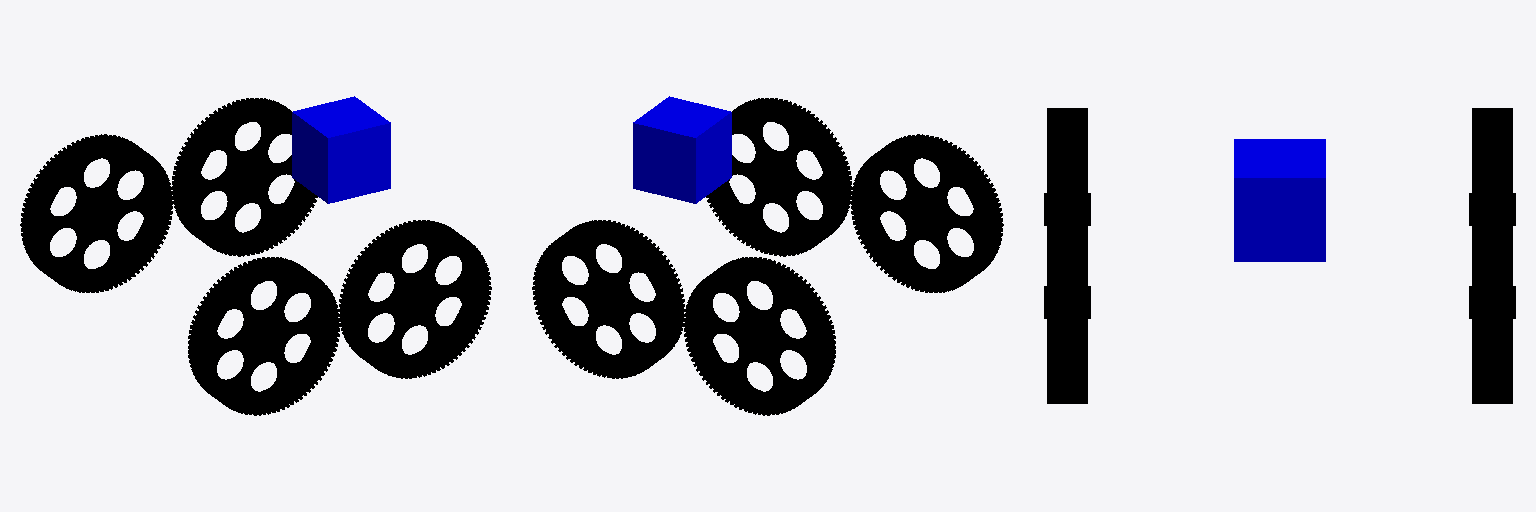
robot.urdf — Robot_Arm:
<?xml version="1.0" ?>
<!-- =================================================================================== -->
<!-- |    This document was autogenerated by xacro from 01-diff_drive.urdf.xacro       | -->
<!-- |    EDITING THIS FILE BY HAND IS NOT RECOMMENDED                                 | -->
<!-- =================================================================================== -->
<robot name="Robot_Arm" xmlns:xacro="http://www.ros.org/wiki/xacro">
  <!-- /////////////////////////////////////////////////////////////////-->
  <!-- Include materials-->
  <material name="Black">
    <color rgba="0.0 0.0 0.0 1.0"/>
  </material>
  <material name="Red">
    <color rgba="0.8 0.0 0.0 1.0"/>
  </material>
  <material name="White">
    <color rgba="1.0 1.0 1.0 1.0"/>
  </material>
  <material name="Blue">
    <color rgba="0.0 0.0 1.0 1.0"/>
  </material>
  <material name="Green">
    <color rgba="0.0 1.0 0.0 1.0"/>
  </material>
  <!-- /////////////////////////////////////////////////////-->
  <!-- constants -->
  <!-- chassis property -->
  <!-- wheel property -->
  <!-- /////////////////////////////////////////////////////-->
  <!-- ///////////////////////////////////////////////////-->
  <!-- ////////////////////////////////////////////////////-->
  <!--transmission block-->
  <!-- //////////////////////////////////////////////////// -->
  <!-- ////////////////////////////////////////////////////////////-->
  <!-- chassis-->
  <link name="chassis">
    <visual>
      <origin rpy="-1.57 0 1.57" xyz="0 0 0"/>
      <geometry>
        <mesh filename="package://robot_arm/meshes/base assembly.dae"/>
      </geometry>
    </visual>
    <collision>
      <origin rpy="-1.57 0 0" xyz="0 0 0"/>
      <geometry>
        <mesh filename="package://robot_arm/meshes/base assembly.dae"/>
      </geometry>
    </collision>
    <inertial>
      <mass value="5.0"/>
      <inertia ixx="1.0" ixy="0.0" ixz="0.0" iyy="1.0" iyz="0.0" izz="1.0"/>
    </inertial>
  </link>
  <gazebo reference="chassis">
    <turnGravityOff>false</turnGravityOff>
  </gazebo>
  <!-- ///////////////////      Wheels      ///////////////////////   -->
  <link name="right_front_wheel">
    <visual>
      <origin rpy="1.57 0 0" xyz="0 0 0"/>
      <geometry>
        <cylinder length="0.022" radius="0.011"/>
      </geometry>
      <material name="Black"/>
    </visual>
    <collision>
      <origin rpy="1.57 0 0" xyz="0 0 0"/>
      <geometry>
        <cylinder length="0.022" radius="0.011"/>
      </geometry>
    </collision>
    <inertial>
      <mass value="0.2"/>
      <inertia ixx="2.48722222222e-05" ixy="0.0" ixz="0.0" iyy="2.48722222222e-05" iyz="0.0" izz="3.3611111111e-05"/>
    </inertial>
  </link>
  <link name="right_front_wheel1">
    <visual>
      <origin rpy="0  1.57 0" xyz="0 0 0"/>
      <geometry>
        <mesh filename="package://robot_arm/meshes/tyre11.dae"/>
      </geometry>
      <material name="Black"/>
    </visual>
    <collision>
      <origin rpy="0 1.57 0" xyz="0 0 0"/>
      <geometry>
        <mesh filename="package://robot_arm/meshes/tyre11.dae"/>
      </geometry>
    </collision>
    <inertial>
      <mass value="0.2"/>
      <inertia ixx="0.000159316666667" ixy="0.0" ixz="0.0" iyy="0.000159316666667" iyz="0.0" izz="0.0003025"/>
    </inertial>
  </link>
  <gazebo reference="right_front_wheel1">
    <material>Gazebo/Black</material>
    <turnGravityOff>false</turnGravityOff>
  </gazebo>
  <joint name="right_front_wheel_joint1" type="fixed">
    <parent link="right_front_wheel"/>
    <child link="right_front_wheel1"/>
    <origin rpy="0 0 0" xyz="0 0 0"/>
  </joint>
  <gazebo reference="right_front_wheel">
    <mu1 value="200.0"/>
    <mu2 value="100.0"/>
    <kp value="10000000.0"/>
    <kd value="1.0"/>
    <material>Gazebo/Black</material>
  </gazebo>
  <joint name="right_front_wheel_joint" type="continuous">
    <parent link="chassis"/>
    <child link="right_front_wheel"/>
    <origin rpy="0 0 0" xyz="0.062 -0.115  0.015"/>
    <axis xyz="0 1 0"/>
    <limit effort="100" velocity="100"/>
    <dynamics damping="0.0" friction="0.0"/>
  </joint>
  <transmission name="right_front_wheel_trans">
    <type>transmission_interface/SimpleTransmission</type>
    <actuator name="right_front_wheel_motor">
      <hardwareInterface>EffortJointInterface</hardwareInterface>
      <mechanicalReduction>1</mechanicalReduction>
    </actuator>
    <joint name="right_front_wheel_joint">
      <hardwareInterface>VelocityJointInterface</hardwareInterface>
    </joint>
  </transmission>
  <link name="right_back_wheel">
    <visual>
      <origin rpy="1.57 0 0" xyz="0 0 0"/>
      <geometry>
        <cylinder length="0.022" radius="0.011"/>
      </geometry>
      <material name="Black"/>
    </visual>
    <collision>
      <origin rpy="1.57 0 0" xyz="0 0 0"/>
      <geometry>
        <cylinder length="0.022" radius="0.011"/>
      </geometry>
    </collision>
    <inertial>
      <mass value="0.2"/>
      <inertia ixx="2.48722222222e-05" ixy="0.0" ixz="0.0" iyy="2.48722222222e-05" iyz="0.0" izz="3.3611111111e-05"/>
    </inertial>
  </link>
  <link name="right_back_wheel1">
    <visual>
      <origin rpy="0  1.57 0" xyz="0 0 0"/>
      <geometry>
        <mesh filename="package://robot_arm/meshes/tyre11.dae"/>
      </geometry>
      <material name="Black"/>
    </visual>
    <collision>
      <origin rpy="0 1.57 0" xyz="0 0 0"/>
      <geometry>
        <mesh filename="package://robot_arm/meshes/tyre11.dae"/>
      </geometry>
    </collision>
    <inertial>
      <mass value="0.2"/>
      <inertia ixx="0.000159316666667" ixy="0.0" ixz="0.0" iyy="0.000159316666667" iyz="0.0" izz="0.0003025"/>
    </inertial>
  </link>
  <gazebo reference="right_back_wheel1">
    <material>Gazebo/Black</material>
    <turnGravityOff>false</turnGravityOff>
  </gazebo>
  <joint name="right_back_wheel_joint1" type="fixed">
    <parent link="right_back_wheel"/>
    <child link="right_back_wheel1"/>
    <origin rpy="0 0 0" xyz="0 0 0"/>
  </joint>
  <gazebo reference="right_back_wheel">
    <mu1 value="200.0"/>
    <mu2 value="100.0"/>
    <kp value="10000000.0"/>
    <kd value="1.0"/>
    <material>Gazebo/Black</material>
  </gazebo>
  <joint name="right_back_wheel_joint" type="continuous">
    <parent link="chassis"/>
    <child link="right_back_wheel"/>
    <origin rpy="0 0 0" xyz="-0.058 -0.115  0.015"/>
    <axis xyz="0 1 0"/>
    <limit effort="100" velocity="100"/>
    <dynamics damping="0.0" friction="0.0"/>
  </joint>
  <transmission name="right_back_wheel_trans">
    <type>transmission_interface/SimpleTransmission</type>
    <actuator name="right_back_wheel_motor">
      <hardwareInterface>EffortJointInterface</hardwareInterface>
      <mechanicalReduction>1</mechanicalReduction>
    </actuator>
    <joint name="right_back_wheel_joint">
      <hardwareInterface>VelocityJointInterface</hardwareInterface>
    </joint>
  </transmission>
  <link name="left_front_wheel">
    <visual>
      <origin rpy="1.57 0 0" xyz="0 0 0"/>
      <geometry>
        <cylinder length="0.022" radius="0.011"/>
      </geometry>
      <material name="Black"/>
    </visual>
    <collision>
      <origin rpy="1.57 0 0" xyz="0 0 0"/>
      <geometry>
        <cylinder length="0.022" radius="0.011"/>
      </geometry>
    </collision>
    <inertial>
      <mass value="0.2"/>
      <inertia ixx="2.48722222222e-05" ixy="0.0" ixz="0.0" iyy="2.48722222222e-05" iyz="0.0" izz="3.3611111111e-05"/>
    </inertial>
  </link>
  <link name="left_front_wheel1">
    <visual>
      <origin rpy="0  1.57 0" xyz="0 0 0"/>
      <geometry>
        <mesh filename="package://robot_arm/meshes/tyre11.dae"/>
      </geometry>
      <material name="Black"/>
    </visual>
    <collision>
      <origin rpy="0 1.57 0" xyz="0 0 0"/>
      <geometry>
        <mesh filename="package://robot_arm/meshes/tyre11.dae"/>
      </geometry>
    </collision>
    <inertial>
      <mass value="0.2"/>
      <inertia ixx="0.000159316666667" ixy="0.0" ixz="0.0" iyy="0.000159316666667" iyz="0.0" izz="0.0003025"/>
    </inertial>
  </link>
  <gazebo reference="left_front_wheel1">
    <material>Gazebo/Black</material>
    <turnGravityOff>false</turnGravityOff>
  </gazebo>
  <joint name="left_front_wheel_joint1" type="fixed">
    <parent link="left_front_wheel"/>
    <child link="left_front_wheel1"/>
    <origin rpy="0 0 0" xyz="0 0 0"/>
  </joint>
  <gazebo reference="left_front_wheel">
    <mu1 value="200.0"/>
    <mu2 value="100.0"/>
    <kp value="10000000.0"/>
    <kd value="1.0"/>
    <material>Gazebo/Black</material>
  </gazebo>
  <joint name="left_front_wheel_joint" type="continuous">
    <parent link="chassis"/>
    <child link="left_front_wheel"/>
    <origin rpy="0 0 0" xyz="0.062 0.115  0.015"/>
    <axis xyz="0 1 0"/>
    <limit effort="100" velocity="100"/>
    <dynamics damping="0.0" friction="0.0"/>
  </joint>
  <transmission name="left_front_wheel_trans">
    <type>transmission_interface/SimpleTransmission</type>
    <actuator name="left_front_wheel_motor">
      <hardwareInterface>EffortJointInterface</hardwareInterface>
      <mechanicalReduction>1</mechanicalReduction>
    </actuator>
    <joint name="left_front_wheel_joint">
      <hardwareInterface>VelocityJointInterface</hardwareInterface>
    </joint>
  </transmission>
  <link name="left_back_wheel">
    <visual>
      <origin rpy="1.57 0 0" xyz="0 0 0"/>
      <geometry>
        <cylinder length="0.022" radius="0.011"/>
      </geometry>
      <material name="Black"/>
    </visual>
    <collision>
      <origin rpy="1.57 0 0" xyz="0 0 0"/>
      <geometry>
        <cylinder length="0.022" radius="0.011"/>
      </geometry>
    </collision>
    <inertial>
      <mass value="0.2"/>
      <inertia ixx="2.48722222222e-05" ixy="0.0" ixz="0.0" iyy="2.48722222222e-05" iyz="0.0" izz="3.3611111111e-05"/>
    </inertial>
  </link>
  <link name="left_back_wheel1">
    <visual>
      <origin rpy="0  1.57 0" xyz="0 0 0"/>
      <geometry>
        <mesh filename="package://robot_arm/meshes/tyre11.dae"/>
      </geometry>
      <material name="Black"/>
    </visual>
    <collision>
      <origin rpy="0 1.57 0" xyz="0 0 0"/>
      <geometry>
        <mesh filename="package://robot_arm/meshes/tyre11.dae"/>
      </geometry>
    </collision>
    <inertial>
      <mass value="0.2"/>
      <inertia ixx="0.000159316666667" ixy="0.0" ixz="0.0" iyy="0.000159316666667" iyz="0.0" izz="0.0003025"/>
    </inertial>
  </link>
  <gazebo reference="left_back_wheel1">
    <material>Gazebo/Black</material>
    <turnGravityOff>false</turnGravityOff>
  </gazebo>
  <joint name="left_back_wheel_joint1" type="fixed">
    <parent link="left_back_wheel"/>
    <child link="left_back_wheel1"/>
    <origin rpy="0 0 0" xyz="0 0 0"/>
  </joint>
  <gazebo reference="left_back_wheel">
    <mu1 value="200.0"/>
    <mu2 value="100.0"/>
    <kp value="10000000.0"/>
    <kd value="1.0"/>
    <material>Gazebo/Black</material>
  </gazebo>
  <joint name="left_back_wheel_joint" type="continuous">
    <parent link="chassis"/>
    <child link="left_back_wheel"/>
    <origin rpy="0 0 0" xyz="-0.058 0.115  0.015"/>
    <axis xyz="0 1 0"/>
    <limit effort="100" velocity="100"/>
    <dynamics damping="0.0" friction="0.0"/>
  </joint>
  <transmission name="left_back_wheel_trans">
    <type>transmission_interface/SimpleTransmission</type>
    <actuator name="left_back_wheel_motor">
      <hardwareInterface>EffortJointInterface</hardwareInterface>
      <mechanicalReduction>1</mechanicalReduction>
    </actuator>
    <joint name="left_back_wheel_joint">
      <hardwareInterface>VelocityJointInterface</hardwareInterface>
    </joint>
  </transmission>
  <!--///////////////////////////////////////////////////////////////// -->
  <link name="hokuyo_sensor">
    <visual>
      <origin rpy="0 0 0" xyz="0 0 0"/>
      <geometry>
        <box size="0.05 0.05 0.05"/>
      </geometry>
      <material name="Blue"/>
    </visual>
  </link>
  <joint name="hokuyo_joint" type="fixed">
    <origin rpy="0 0 0" xyz="0.07 0 0.08"/>
    <parent link="chassis"/>
    <child link="hokuyo_sensor"/>
  </joint>
  <gazebo reference="hokuyo_sensor">
    <material>Gazebo/Blue</material>
    <turnGravityOff>false</turnGravityOff>
    <sensor name="chassis_hokuyo_sensor" type="ray">
      <pose>0.025 0 0 0 0 0</pose>
      <visualize>false</visualize>
      <update_rate>40</update_rate>
      <ray>
        <scan>
          <horizontal>
            <samples>720</samples>
            <resolution>1</resolution>
            <min_angle>-1.57</min_angle>
            <max_angle>1.57</max_angle>
          </horizontal>
        </scan>
        <range>
          <min>0.10</min>
          <max>10.0</max>
          <resolution>0.001</resolution>
        </range>
      </ray>
      <plugin filename="libgazebo_ros_laser.so" name="gazebo_ros_head_hokuyo_controller">
        <topicName>/scan</topicName>
        <frameName>hokuyo_sensor</frameName>
      </plugin>
    </sensor>
  </gazebo>
  <!-- //////////////////////////////////////////////////////////////// -->
  <!-- ros_control plugin-->
  <gazebo>
    <plugin filename="libgazebo_ros_control.so" name="gazebo_ros_control">
      <robotNamespace>/</robotNamespace>
    </plugin>
  </gazebo>
</robot>

--- Render facts (derived) ---
The picture shows the robot from 3 angles, left to right: view 1: azimuth 30°, elevation 25°; view 2: azimuth 150°, elevation 25°; view 3: azimuth 270°, elevation 25°; orthographic projection.
Robot: Robot_Arm — 10 links, 9 joints (4 continuous, 5 fixed); root link chassis; default pose: all joints at 0.
Links seen in each view (by area): view 1: left_back_wheel1, right_back_wheel1, right_front_wheel1, left_front_wheel1, hokuyo_sensor; view 2: right_back_wheel1, left_back_wheel1, left_front_wheel1, right_front_wheel1, hokuyo_sensor; view 3: hokuyo_sensor, right_front_wheel1, left_front_wheel1, right_back_wheel1, left_back_wheel1.
Boxes of the visible links, x1,y1,x2,y2 form: left_back_wheel1: (20, 134, 173, 292); right_back_wheel1: (188, 257, 340, 415); right_front_wheel1: (339, 220, 491, 378); left_front_wheel1: (172, 98, 317, 256); hokuyo_sensor: (292, 96, 390, 203); right_back_wheel1: (850, 134, 1003, 292); left_back_wheel1: (683, 257, 835, 415); left_front_wheel1: (532, 220, 684, 378); right_front_wheel1: (706, 98, 851, 256); hokuyo_sensor: (633, 96, 731, 203); hokuyo_sensor: (1234, 139, 1325, 261); right_front_wheel1: (1044, 202, 1090, 403); left_front_wheel1: (1469, 202, 1515, 403); right_back_wheel1: (1044, 108, 1090, 225); left_back_wheel1: (1469, 108, 1515, 225).
Bounding box of the posed robot: 0.229 × 0.255 × 0.1445 m (x, y, z).
Meshes: 2 distinct files referenced, 4 mesh visuals loaded (1 Collada DAE); not drawn: 1 (reference not matched to a file when rendering).
